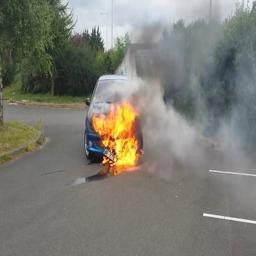fire: (92, 102, 141, 165)
